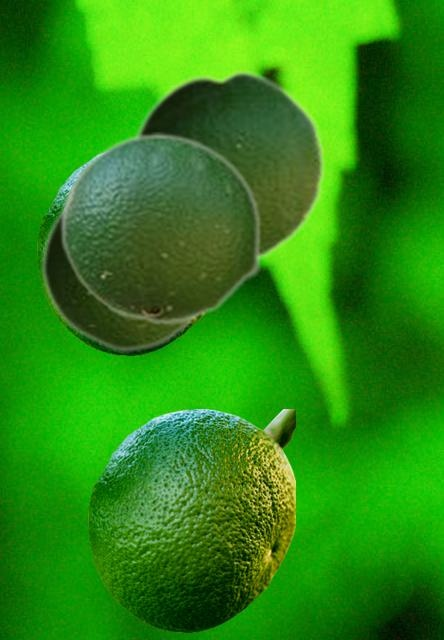dalandan: (88, 409, 294, 631), (59, 132, 261, 325), (133, 67, 325, 264), (37, 153, 204, 354), (40, 208, 197, 353)
